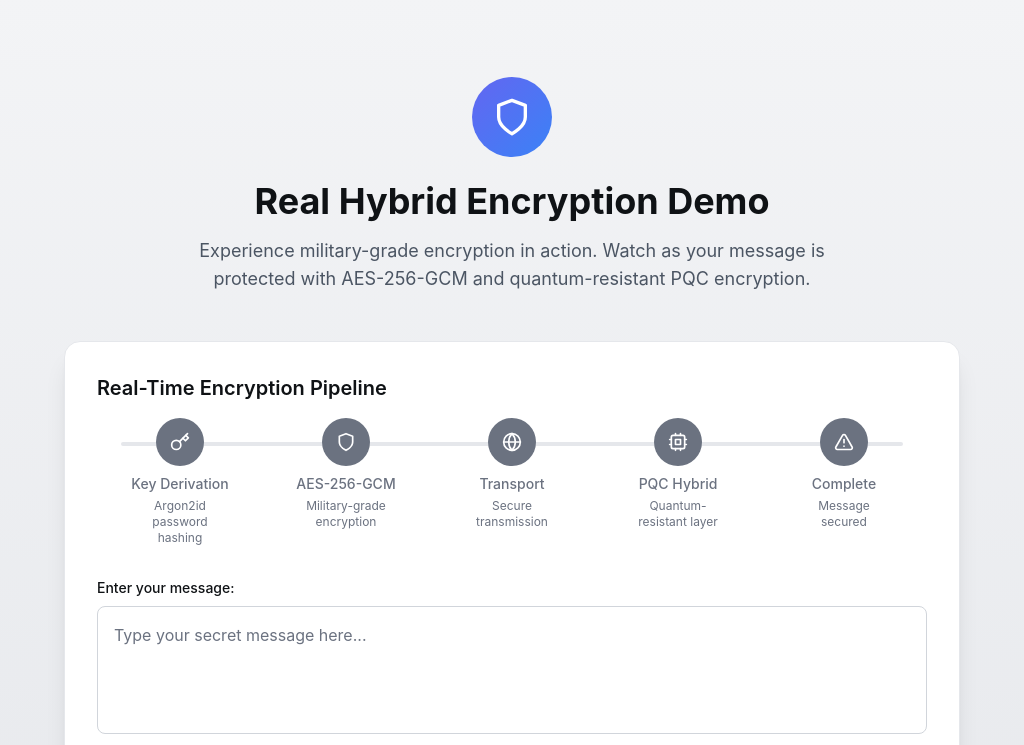
Test: EncryptionDemo Integration › should handle reset functionality
The width and height of the screenshot is (1024, 745).
// Enter message and encrypt
Type "Hello, World!" into the text box with placeholder "Type your secret message here..." at (512, 670), box [97, 606, 927, 734]
(page scrolled)
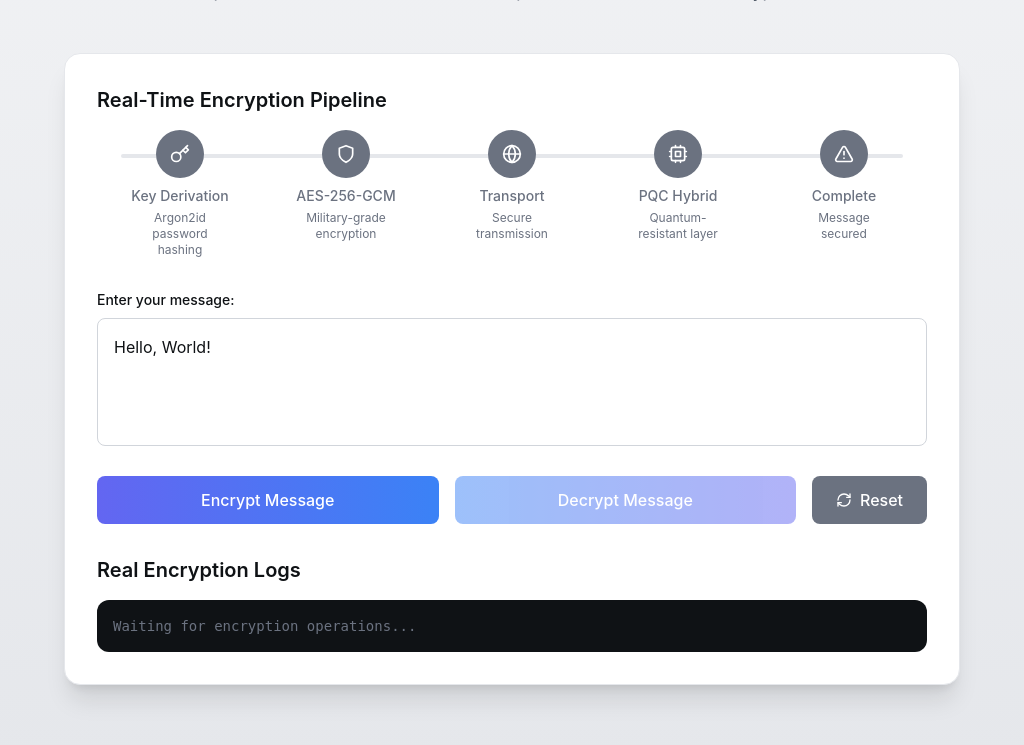
Click the button "Encrypt Message" at (268, 500), box [97, 476, 438, 524]
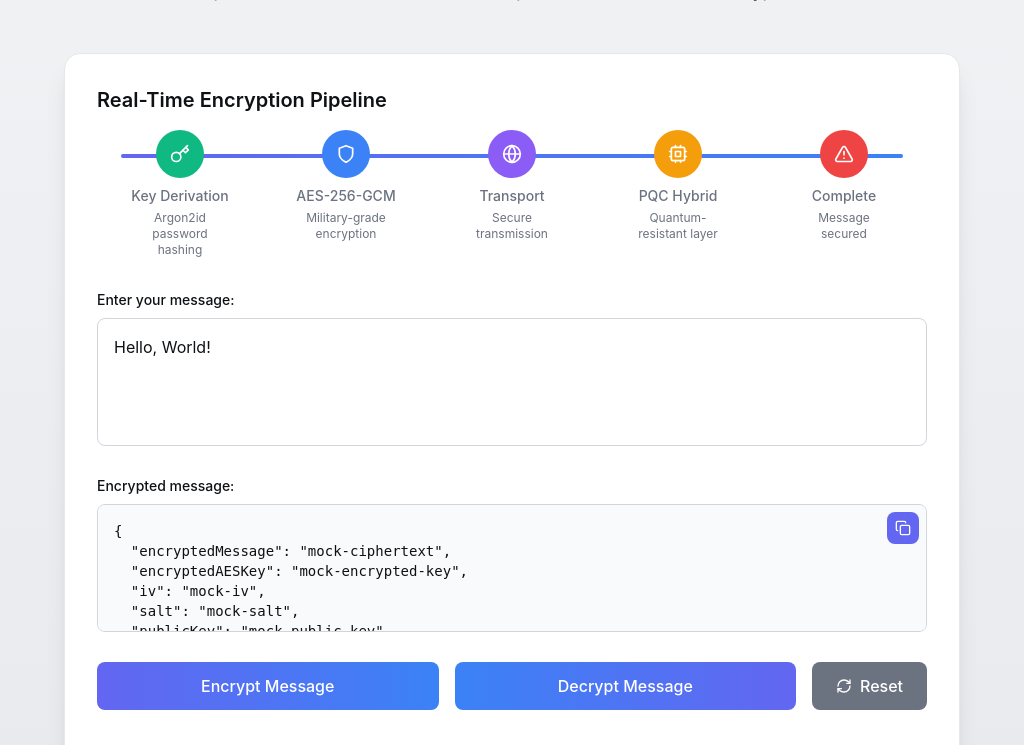
Check: the text box showing "encryptedMessage" below "Encrypted message:" is shown, box [97, 504, 927, 632]
Click the button "Reset" at (870, 686), box [812, 662, 927, 710]
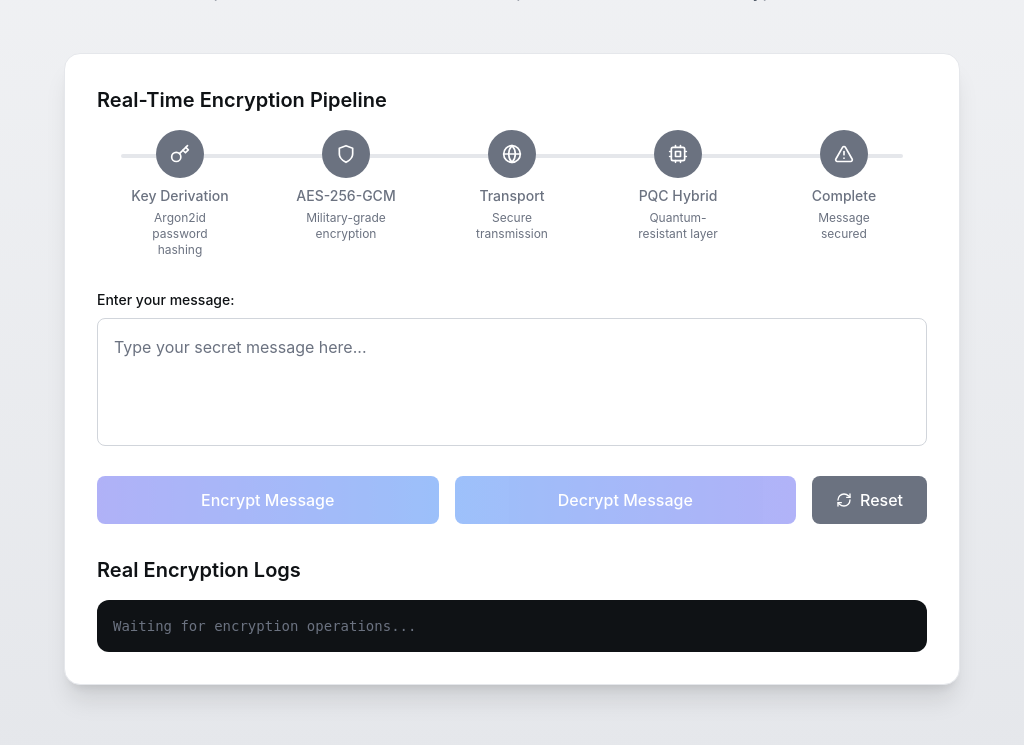
Check: the text box with placeholder "Type your secret message here..." is empty, box [97, 318, 927, 446]
